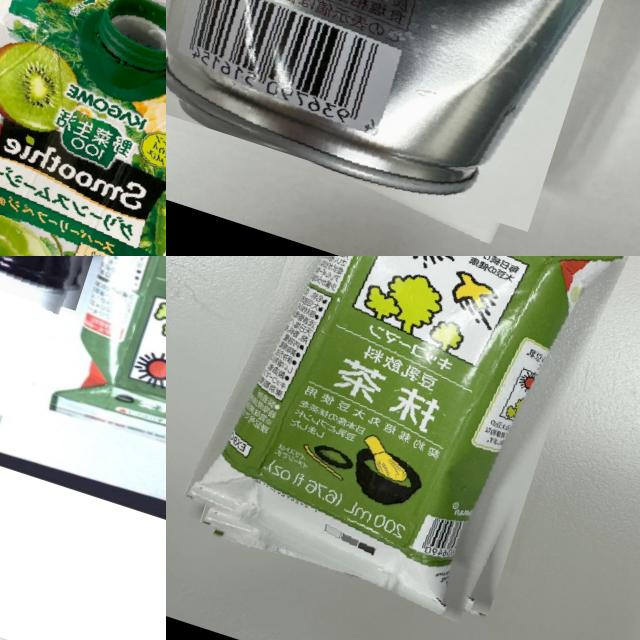Aluminium Foil: (185, 256, 631, 627), (0, 0, 166, 256), (36, 256, 166, 478)
Can: (166, 0, 640, 247)
